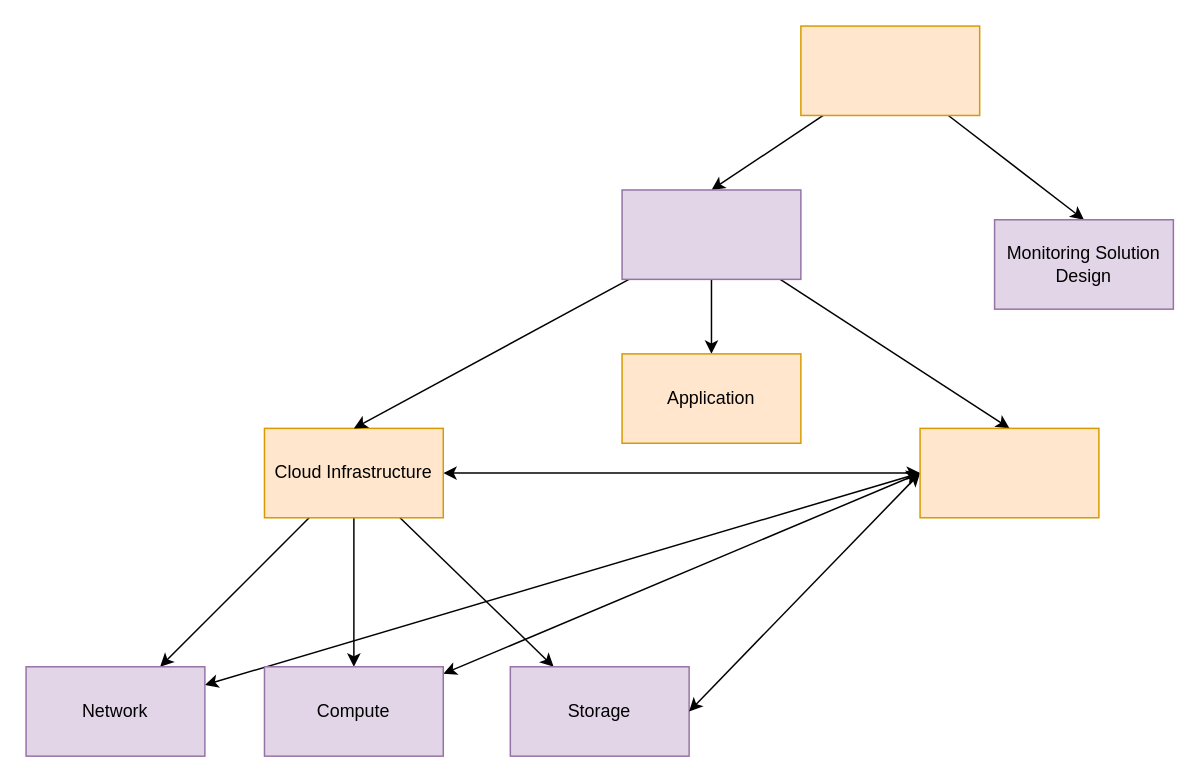
The diagram is 1199 pixels wide and 782 high, and some of its shapes have lost their labels. The centre of each missing label's shape, as x and y in pixels:
CI/CD: (1009,472)
Cloud Infrastructure Design: (711,233)
Solution Design: (889,70)
